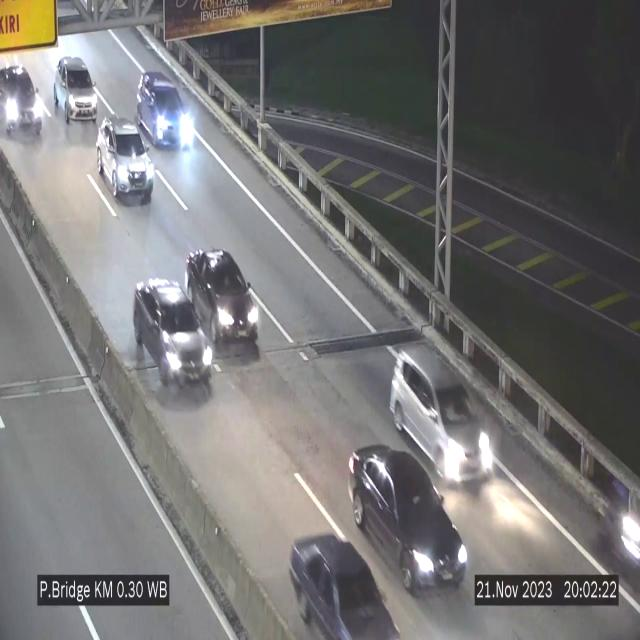Car: (346, 446, 468, 595), (388, 343, 497, 497), (284, 539, 401, 640), (134, 276, 212, 396), (184, 243, 266, 354), (97, 116, 154, 201), (136, 72, 192, 146), (0, 59, 45, 148), (53, 58, 99, 122)
Motorcycle: (596, 474, 640, 580)
